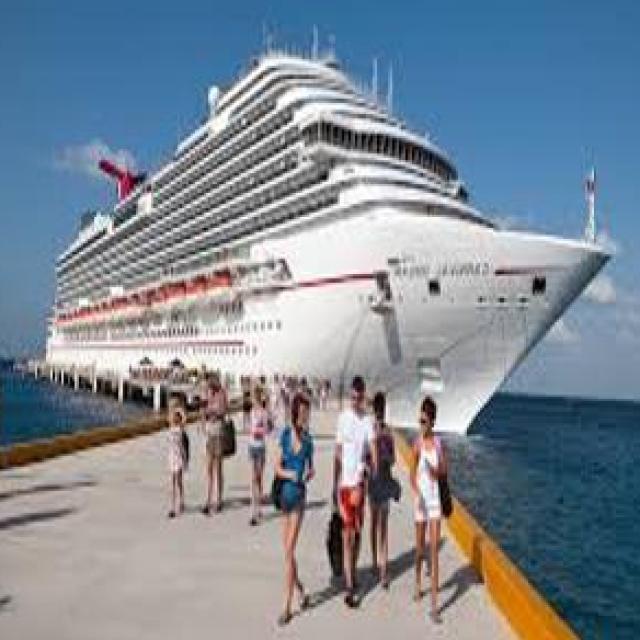passenger ship: (40, 24, 610, 422)
